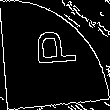P_W: (30, 34, 80, 76)
